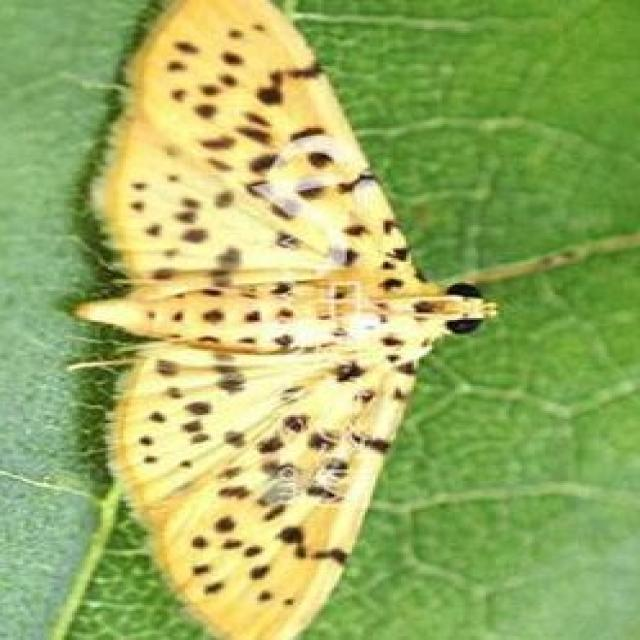peach borer: (60, 1, 502, 640)
